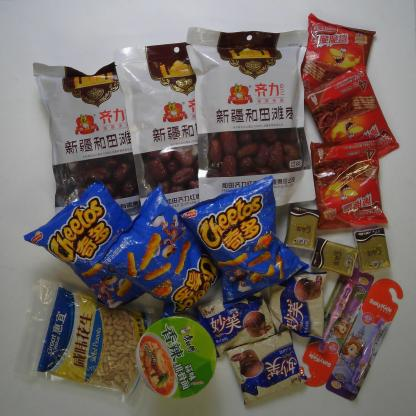Dessert: (303, 63, 398, 164), (312, 134, 388, 229), (301, 12, 378, 104), (229, 328, 308, 406), (195, 282, 278, 356), (267, 268, 328, 342)
Dried Food: (111, 39, 250, 228), (184, 24, 317, 212), (30, 56, 161, 231)
Dried Fruit: (19, 277, 158, 403)
Instant Noodles: (135, 315, 217, 399)
Personal Hygiene: (324, 278, 404, 401), (295, 266, 374, 387)
Puffed Food: (23, 181, 169, 309), (177, 176, 304, 305), (100, 186, 220, 317)
Tissue: (352, 224, 394, 273), (310, 239, 359, 276), (283, 205, 322, 251)
